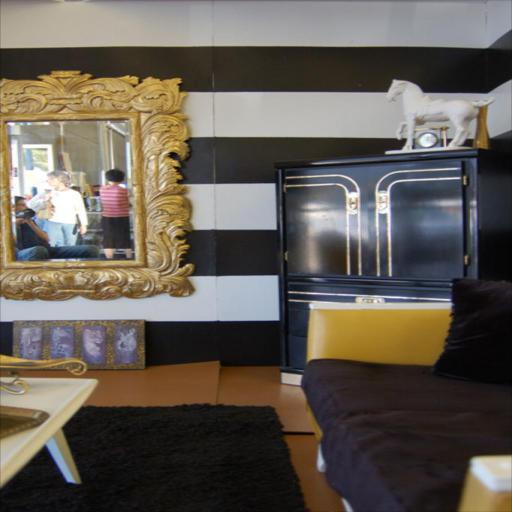horse: (382, 77, 498, 149)
